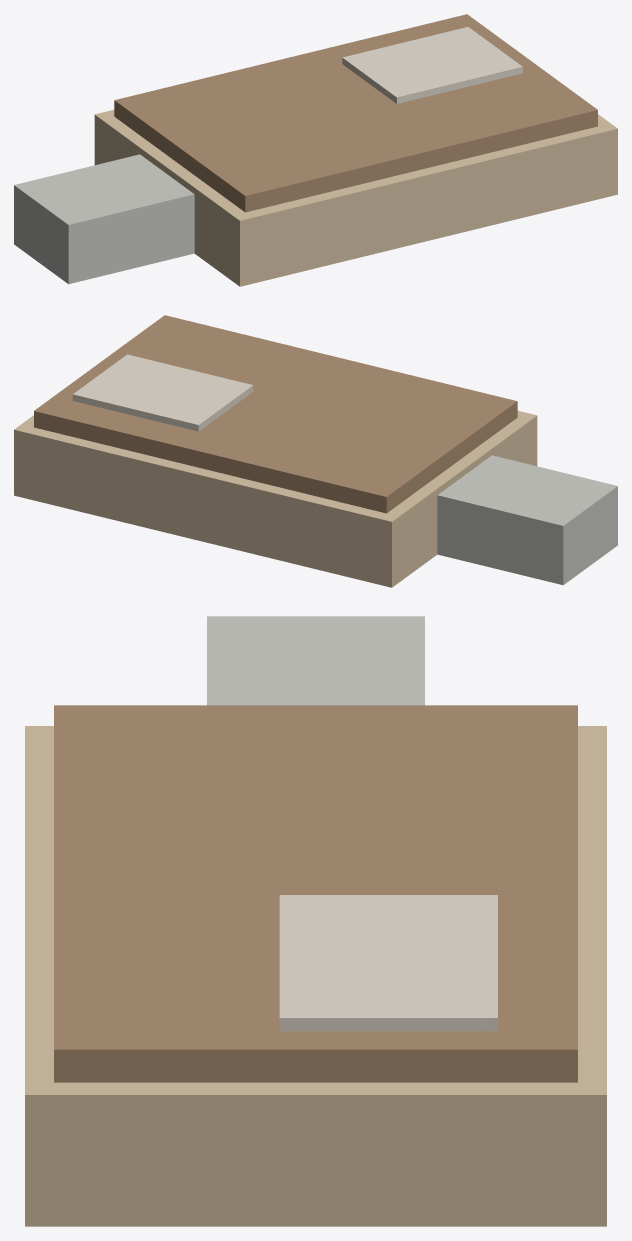
File: prop-sanding-pad.fbx
3 views of the same model, one above another, from view 1: azimuth 30°, elevation 25°; view 2: azimuth 150°, elevation 25°; view 3: azimuth 270°, elevation 25° (orthographic). The views are drawn at different scales.
Visible parts, largest first — view 1: prop-sanding-pad; view 2: prop-sanding-pad; view 3: prop-sanding-pad.
Part boxes in pixels (x1,y1,x2,y2): prop-sanding-pad: [14, 14, 617, 286]; prop-sanding-pad: [14, 315, 617, 587]; prop-sanding-pad: [25, 616, 606, 1226].
Bounding box in the file's own units: 16 × 2.7 × 8.
